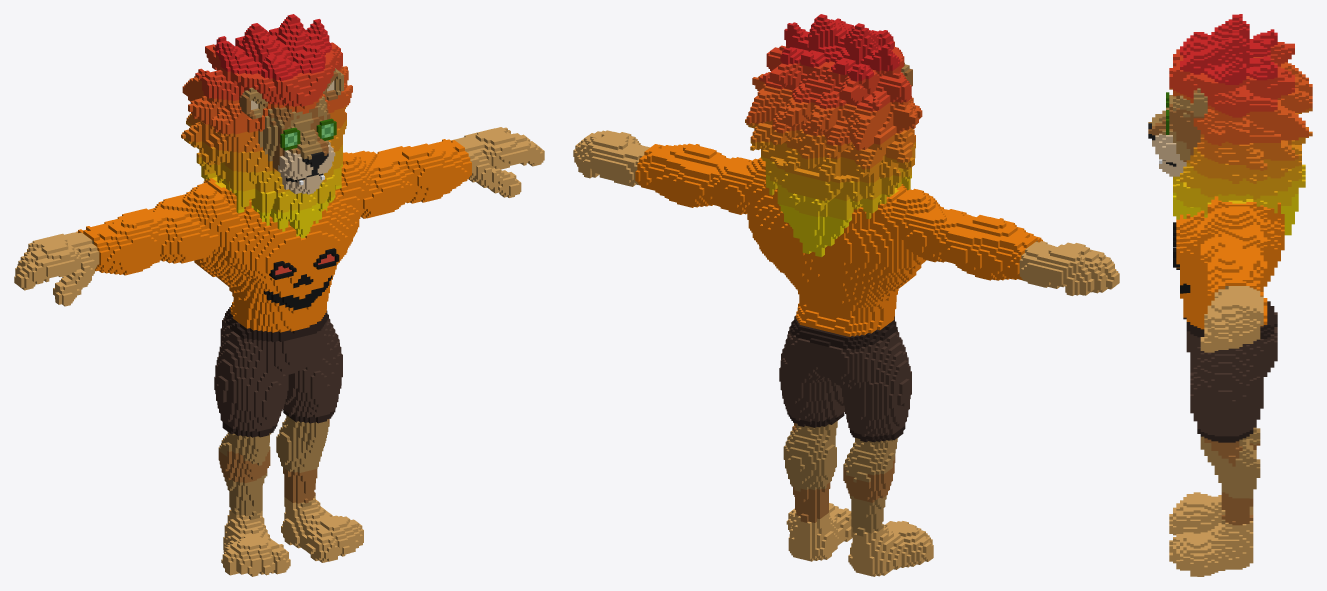
Rendered from 649-DawunGUH.glb.
3 views of the same model, side by side, from view 1: azimuth 30°, elevation 25°; view 2: azimuth 150°, elevation 25°; view 3: azimuth 270°, elevation 25° (orthographic). The views are drawn at different scales.
Visible parts, largest first — view 1: standard; view 2: standard; view 3: standard.
Part boxes in pixels (<box>): standard: <box>14,14,544,576</box>; standard: <box>573,14,1119,576</box>; standard: <box>1148,14,1312,576</box>.
Bounding box in the file's own units: 17.2 × 16.5 × 4.7.
5 materials, 5 textured.
